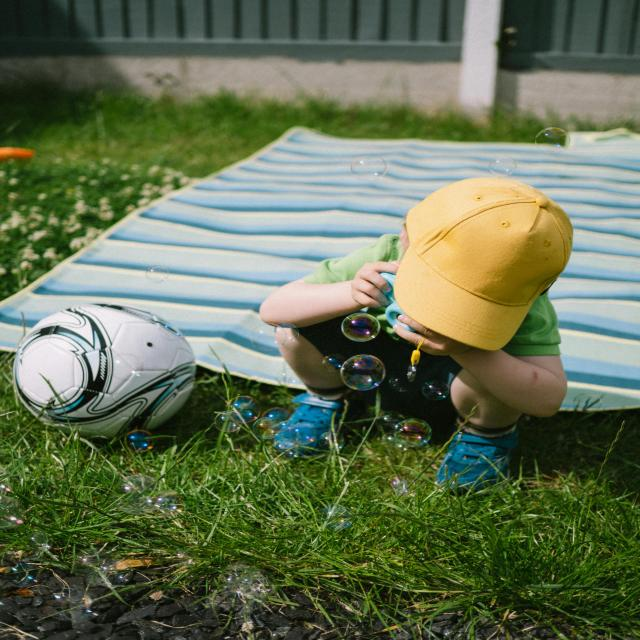sit: (269, 169, 581, 502)
